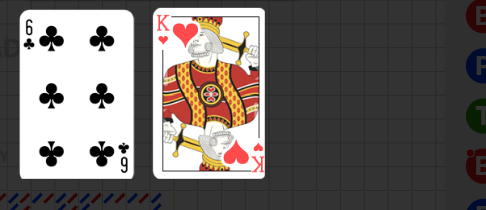6C: (23, 18, 37, 52)
KH: (251, 141, 265, 174)
